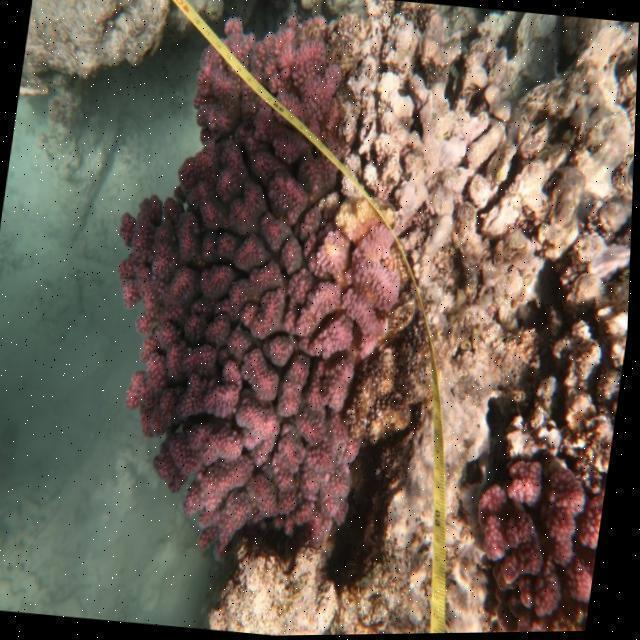Healthy Coral: (75, 1, 441, 574), (458, 446, 613, 635)
